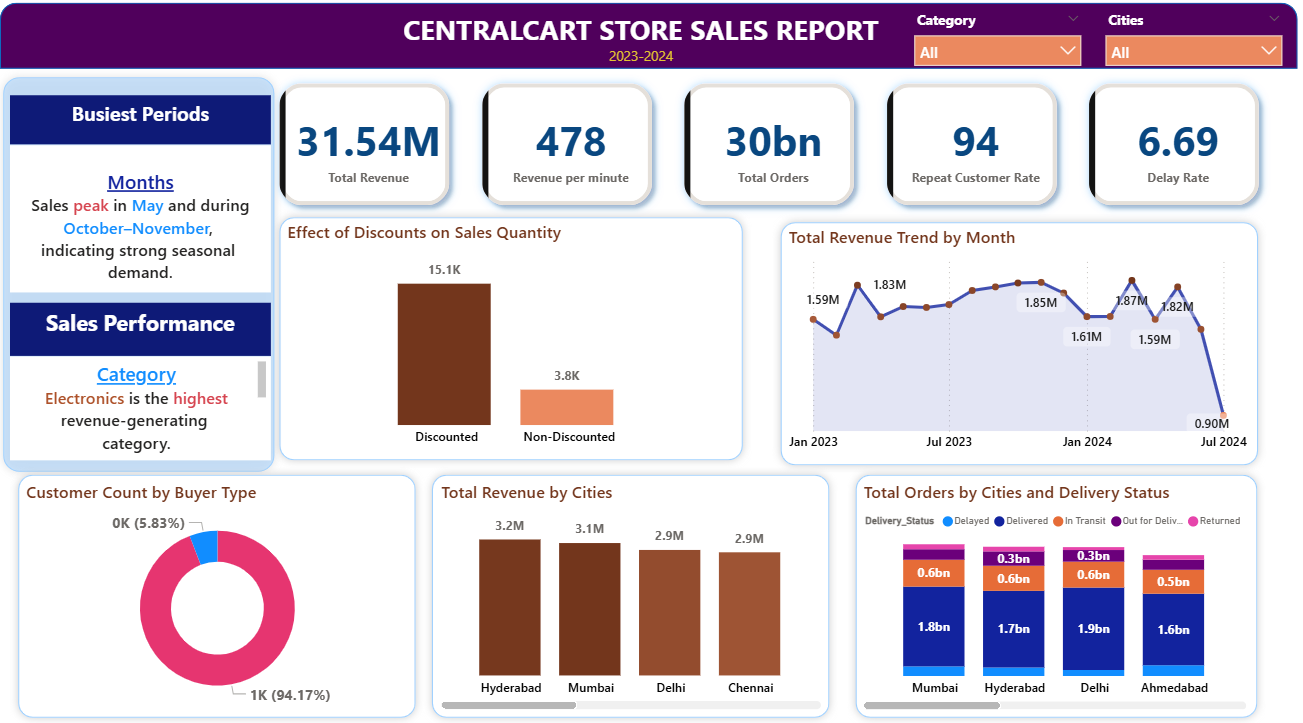

The dashboard page shown, as its layout file describes it:
{"tool":"powerbi","page":{"name":"Page 1","canvas":[1280,720],"ordinal":0},"visuals":[{"type":"cardVisual","fields":{"Data":["Central_Store.Total_Revenue","Central_Store.Revenue_per_minute","Central_Store.Total_Orders","Central_Store.Repeat_Customer_Rate","Central_Store.Delay_Rate"]},"box":[249.7,63.1,1019.6,177],"z":0},{"type":"shape","box":[5.5,13.7,1269.3,64.5],"z":1000},{"type":"textbox","box":[145.5,16.5,972.9,87.8],"z":2000},{"type":"shape","box":[270.3,215.4,469.3,253.9],"z":3000},{"type":"clusteredColumnChart","title":"Effect of Discounts on Sales Quantity","fields":{"Category":["Central_Store.Sale_Type"],"Y":["Sum(Central_Store.Quantity)"]},"box":[281.3,226.4,441.9,230.5],"z":4000},{"type":"shape","box":[760.2,219.6,483,253.9],"z":5000},{"type":"areaChart","title":"Total Revenue Trend by Month","fields":{"Category":["Central_Store.Order_Date.Variation.Date Hierarchy.Year","Central_Store.Order_Date.Variation.Date Hierarchy.Month"],"Y":["Central_Store.Total_Revenue"]},"box":[771.2,230.5,458.3,230.5],"z":6000},{"type":"shape","box":[419.9,466.6,404.8,253.9],"z":7000},{"type":"shape","box":[0,78.2,281.3,402.1],"z":8000},{"type":"columnChart","fields":{"Category":["Central_Store.Cities"],"Y":["Central_Store.Total_Revenue"]},"box":[432.2,480.3,381.5,229.2],"z":9000},{"type":"shape","box":[834.3,466.6,408.9,253.9],"z":10000},{"type":"columnChart","title":"Total Orders by Cities and Delivery Status","fields":{"Category":["Central_Store.Cities"],"Series":["Central_Store.Delivery_Status"],"Y":["Central_Store.Total Orders"]},"box":[845.3,480.3,384.2,229.2],"z":11000},{"type":"textbox","box":[15.1,104.3,255.2,48],"z":12000},{"type":"textbox","box":[15.1,152.3,255.2,144.1],"z":13000},{"type":"textbox","box":[15.1,307.4,255.2,52.1],"z":14000},{"type":"textbox","box":[15.1,359.5,255.2,101.5],"z":15000},{"type":"slicer","fields":{"Values":["Central_Store.Category"]},"box":[889.2,16.5,183.9,61.7],"z":16000},{"type":"slicer","fields":{"Values":["Central_Store.Cities"]},"box":[1075.8,16.5,193.5,61.7],"z":17000},{"type":"shape","box":[15.1,466.6,404.8,253.9],"z":17001},{"type":"donutChart","title":"Customer Count by Buyer Type","fields":{"Category":["Central_Store.Buyer_Type"],"Y":["Central_Store.Customer Count"]},"box":[26.1,480.3,384.2,229.2],"z":17002}]}

Visuals, with their boxes in screenshot pixels (x1, y1, x2, y2), scaled from the page's 1280x720 canvas onto the 1303x723 screenshot:
cardVisual - Central_Store.Total_Revenue x Central_Store.Revenue_per_minute: Rect(254, 63, 1292, 241)
shape: Rect(6, 14, 1298, 79)
textbox: Rect(148, 17, 1138, 105)
shape: Rect(275, 216, 753, 471)
"Effect of Discounts on Sales Quantity" clusteredColumnChart: Rect(286, 227, 736, 459)
shape: Rect(774, 221, 1266, 475)
"Total Revenue Trend by Month" areaChart: Rect(785, 231, 1252, 463)
shape: Rect(427, 469, 840, 722)
shape: Rect(0, 79, 286, 482)
columnChart - Central_Store.Cities x Central_Store.Total_Revenue: Rect(440, 482, 828, 712)
shape: Rect(849, 469, 1266, 722)
"Total Orders by Cities and Delivery Status" columnChart: Rect(860, 482, 1252, 712)
textbox: Rect(15, 105, 275, 153)
textbox: Rect(15, 153, 275, 298)
textbox: Rect(15, 309, 275, 361)
textbox: Rect(15, 361, 275, 463)
slicer - Central_Store.Category: Rect(905, 17, 1092, 79)
slicer - Central_Store.Cities: Rect(1095, 17, 1292, 79)
shape: Rect(15, 469, 427, 722)
"Customer Count by Buyer Type" donutChart: Rect(27, 482, 418, 712)
